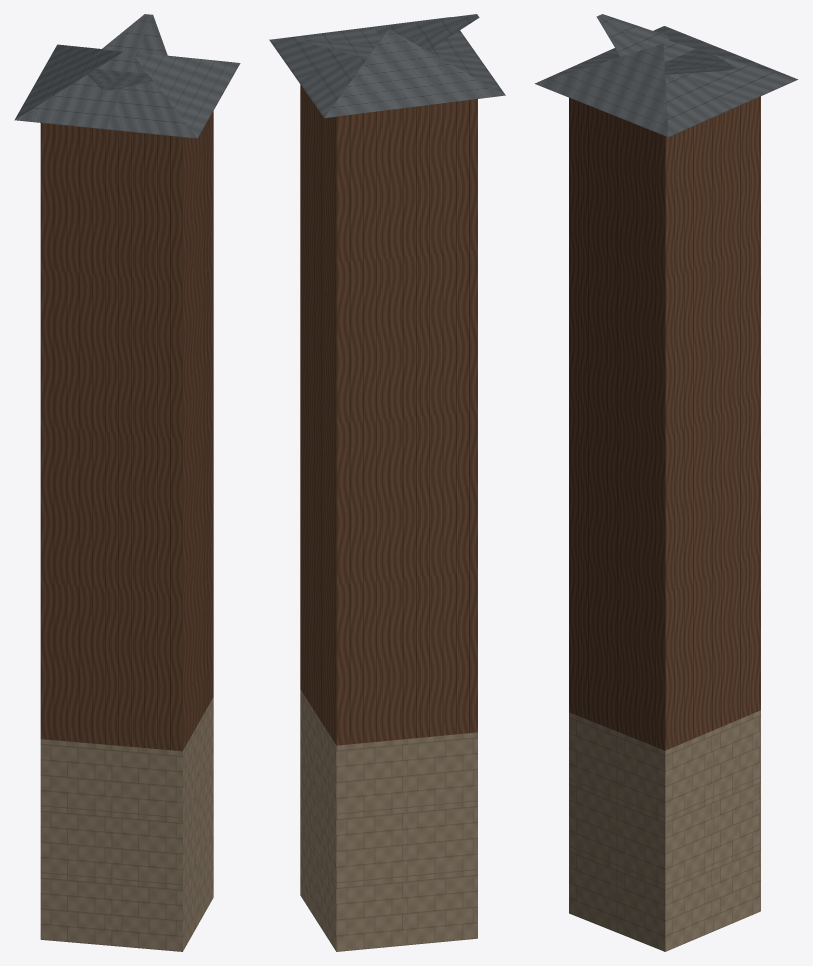
The model's file is bld_c-4_17_545.gltf.
The picture shows the model from 3 angles, left to right: view 1: azimuth 30°, elevation 25°; view 2: azimuth 150°, elevation 25°; view 3: azimuth 270°, elevation 25°; orthographic projection. The views are drawn at different scales.
Visible parts, largest first — view 1: bld_c-4_17_545; view 2: bld_c-4_17_545; view 3: bld_c-4_17_545.
Part boxes in pixels (x1,y1,x2,y2): bld_c-4_17_545: (14,14,240,951); bld_c-4_17_545: (269,14,505,951); bld_c-4_17_545: (535,14,797,951).
Bounding box in the file's own units: 6.07 × 22 × 6.07.
3 materials, 3 textured.
